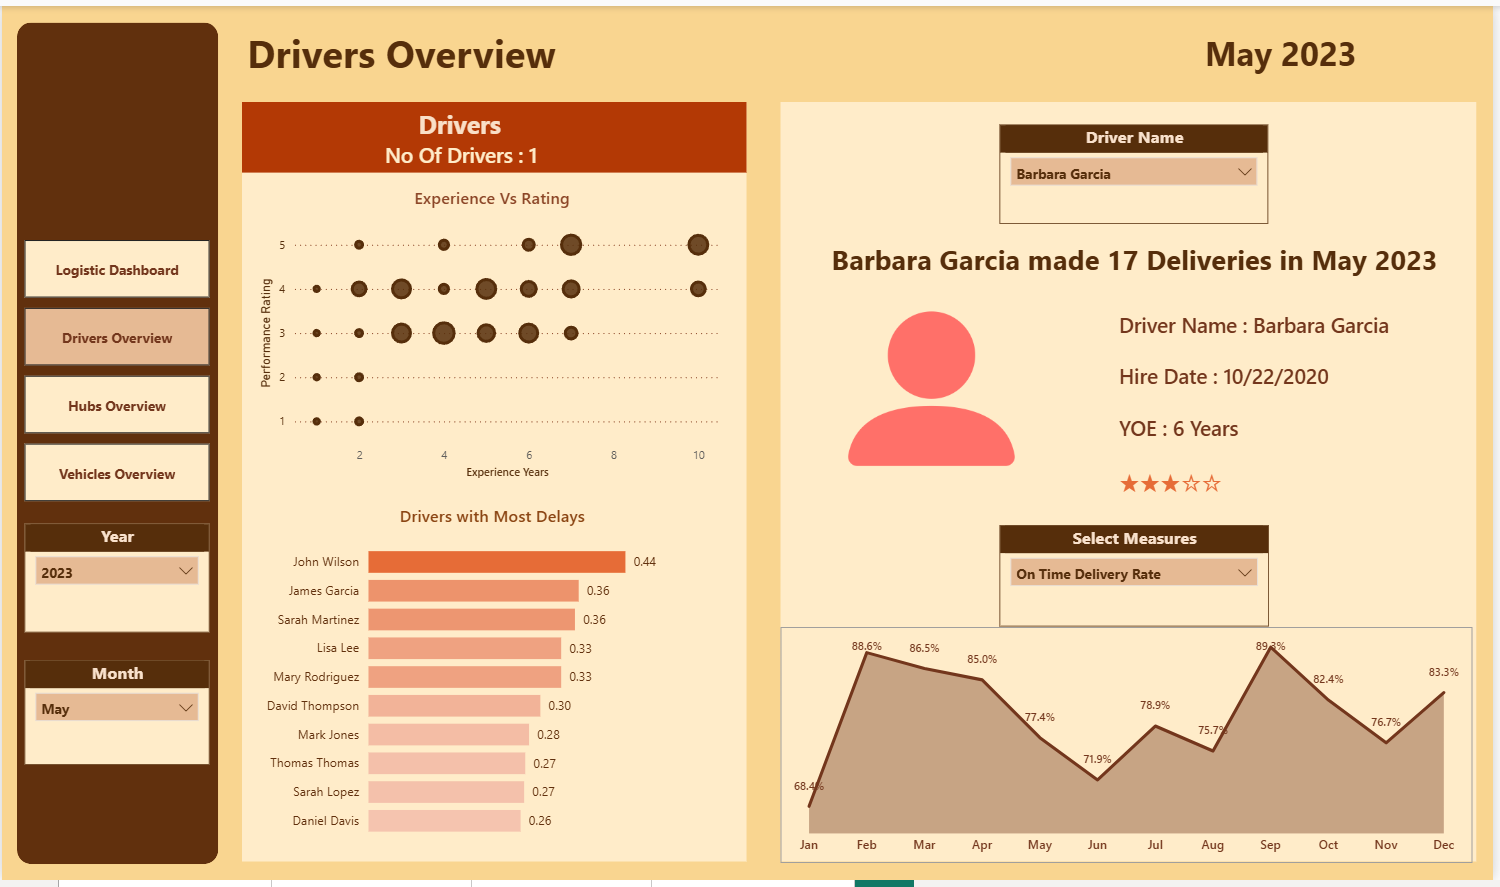

Layout of this report page (visuals, bound fields, positions):
{"tool":"powerbi","page":{"name":"Drivers Overview ","canvas":[1450,850],"ordinal":1},"visuals":[{"type":"shape","title":"Navigation bar ","box":[14.3,15.7,195.7,818.6],"z":0},{"type":"textbox","title":"Title","box":[233,14.4,322.3,63.8],"z":1000},{"type":"slicer","title":"Year","fields":{"Values":["Date Table.Year"]},"box":[22,504,180,106],"z":2000},{"type":"slicer","title":"Month","fields":{"Values":["Date Table.Month"]},"box":[22,636,180,102],"z":3000},{"type":"shape","box":[234,94.1,491,738.8],"z":4000},{"type":"shape","box":[234,94.1,491,68.8],"z":5000},{"type":"card","fields":{"Values":["Drivers.No Of Drivers"]},"box":[336.7,128.3,218.3,35],"z":6000},{"type":"textbox","box":[373.3,93.3,143.3,53.3],"z":7000},{"type":"scatterChart","title":"Experience Vs Rating ","fields":{"X":["Drivers.Experience Years"],"Y":["Drivers.Performance Rating"],"Size":["Sum(Drivers.Experience Years)1"]},"box":[245.5,174.4,463.4,289.1],"z":8000},{"type":"clusteredBarChart","title":"Drivers with Most Delays ","fields":{"Category":["Drivers.DriverName"],"Y":["Orders.Delayed Delivery Rate"]},"box":[245.5,484.1,463.4,335],"z":9000},{"type":"card","fields":{"Values":["Orders.Year Month Title"]},"box":[1093.1,14.4,301.6,63.8],"z":10000},{"type":"shape","box":[757.1,94.1,676.8,738.8],"z":11000},{"type":"slicer","title":"Driver  Name ","fields":{"Values":["Drivers.DriverName"]},"box":[970.5,114.7,261.6,96.4],"z":12000},{"type":"card","fields":{"Values":["Drivers.Drivers Title"]},"box":[773.2,211.1,656.2,71.1],"z":13000},{"type":"cardVisual","fields":{"Data":["Drivers.Driver Name Title","Drivers.Hire Date Title","Drivers.YOE","Drivers.Star Rating"]},"box":[1069.1,270.7,335,213.4],"z":14000},{"type":"image","box":[805.3,282.2,197.3,181.2],"z":15000},{"type":"areaChart","fields":{"Y":["Orders.On Time Delivery Rate"],"Category":["Date Table.Month Abr"]},"box":[757.1,603.4,672.2,229.4],"z":16000},{"type":"slicer","title":"Select Measures","fields":{"Values":["Select Measure.Select Measure"]},"box":[970.2,504.3,261.7,98.9],"z":17000},{"type":"pageNavigator","box":[22,228,180,254],"z":18000}]}

Visuals, with their boxes in screenshot pixels (x1, y1, x2, y2), scaled from the page's 1450x850 canvas onto the 1500x887 screenshot:
"Navigation bar " shape: Rect(15, 16, 217, 871)
"Title" textbox: Rect(241, 15, 574, 82)
"Year" slicer: Rect(23, 526, 209, 637)
"Month" slicer: Rect(23, 664, 209, 770)
shape: Rect(242, 98, 750, 869)
shape: Rect(242, 98, 750, 170)
card - Drivers.No Of Drivers: Rect(348, 134, 574, 170)
textbox: Rect(386, 97, 534, 153)
"Experience Vs Rating " scatterChart: Rect(254, 182, 733, 484)
"Drivers with Most Delays " clusteredBarChart: Rect(254, 505, 733, 855)
card - Orders.Year Month Title: Rect(1131, 15, 1443, 82)
shape: Rect(783, 98, 1483, 869)
"Driver  Name " slicer: Rect(1004, 120, 1275, 220)
card - Drivers.Drivers Title: Rect(800, 220, 1479, 294)
cardVisual - Drivers.Driver Name Title x Drivers.Hire Date Title: Rect(1106, 282, 1453, 505)
image: Rect(833, 294, 1037, 484)
areaChart - Orders.On Time Delivery Rate x Date Table.Month Abr: Rect(783, 630, 1479, 869)
"Select Measures" slicer: Rect(1004, 526, 1274, 629)
pageNavigator: Rect(23, 238, 209, 503)
